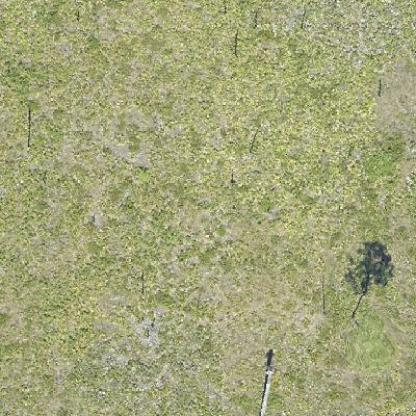tree-top: (339, 317, 400, 378)
